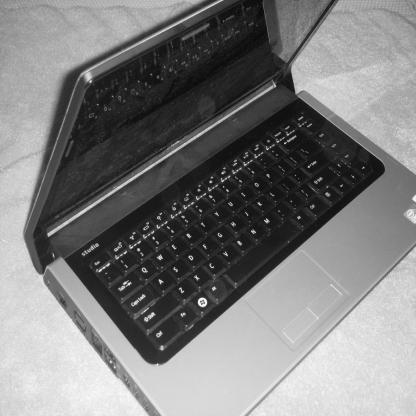board: (23, 1, 416, 416)
